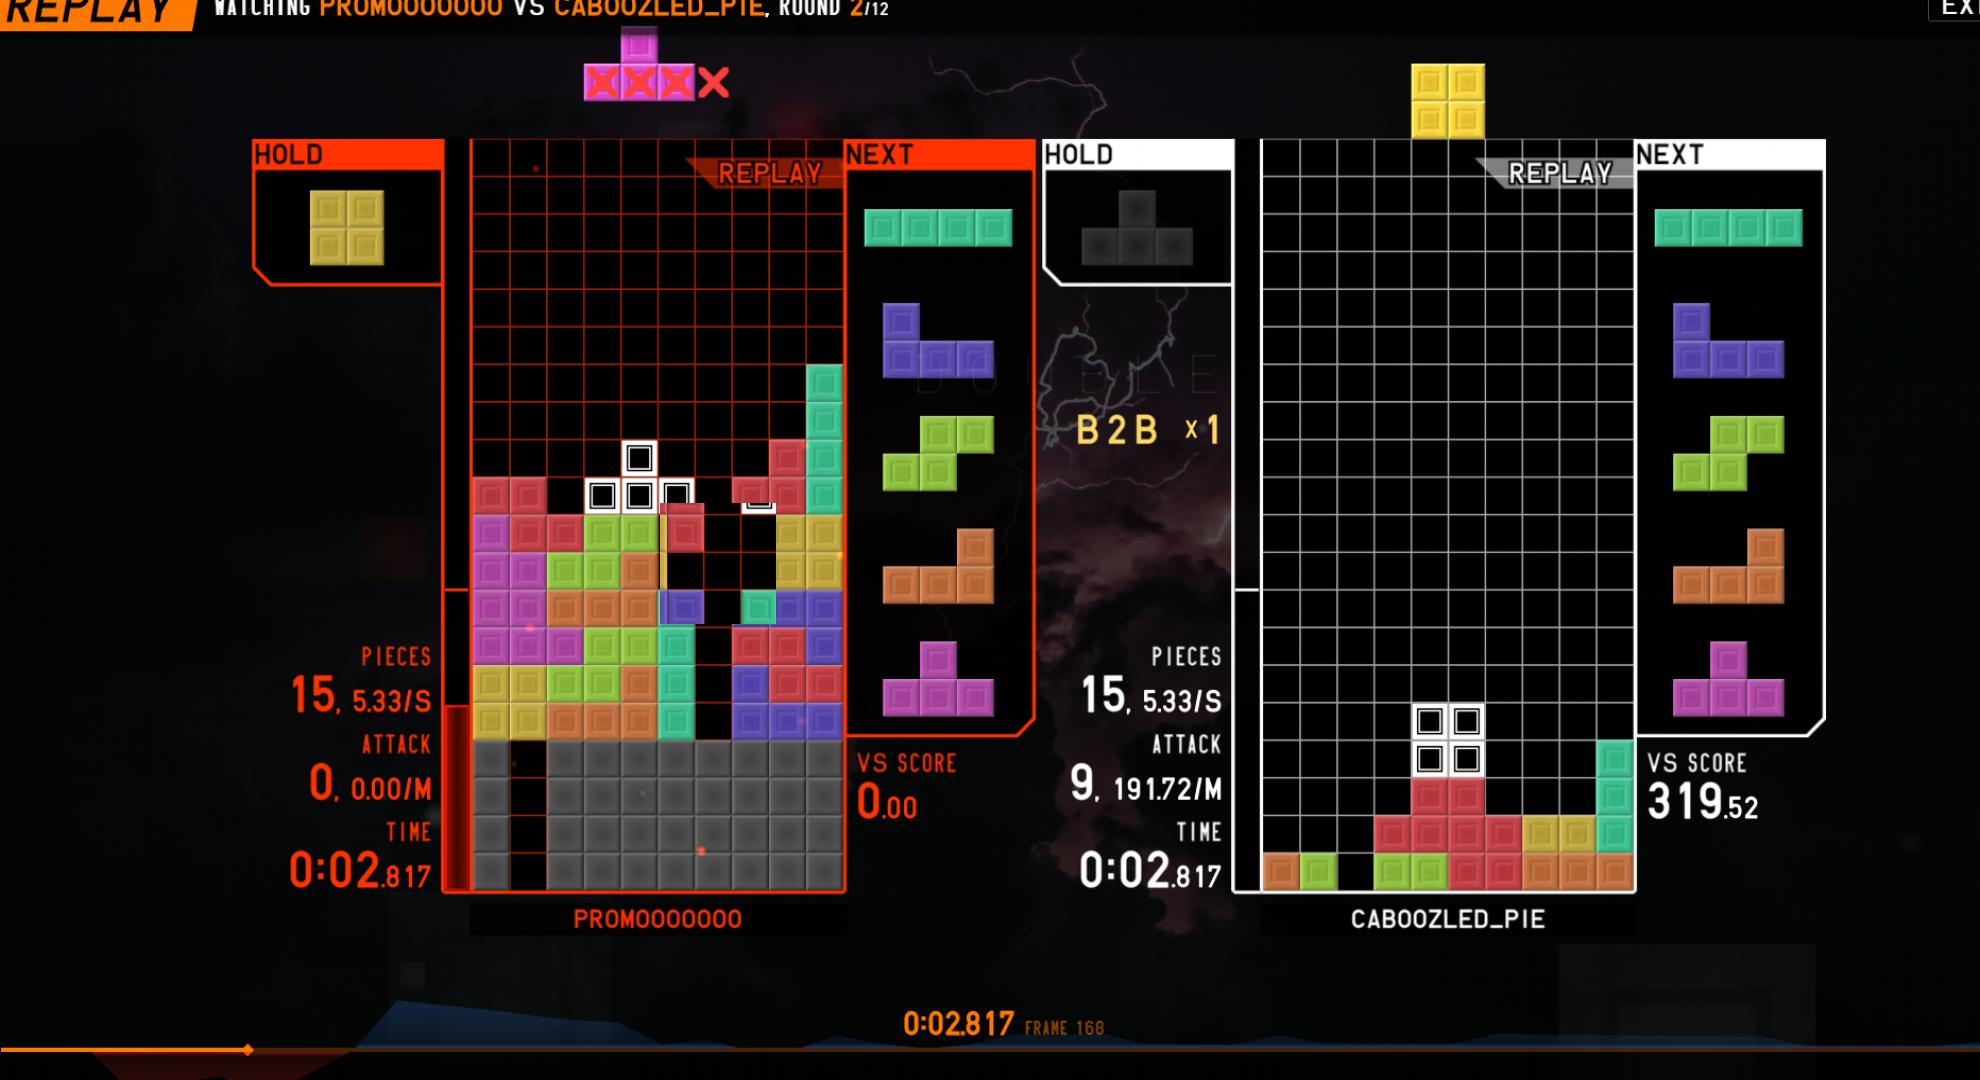tspin: (660, 503, 775, 624)
